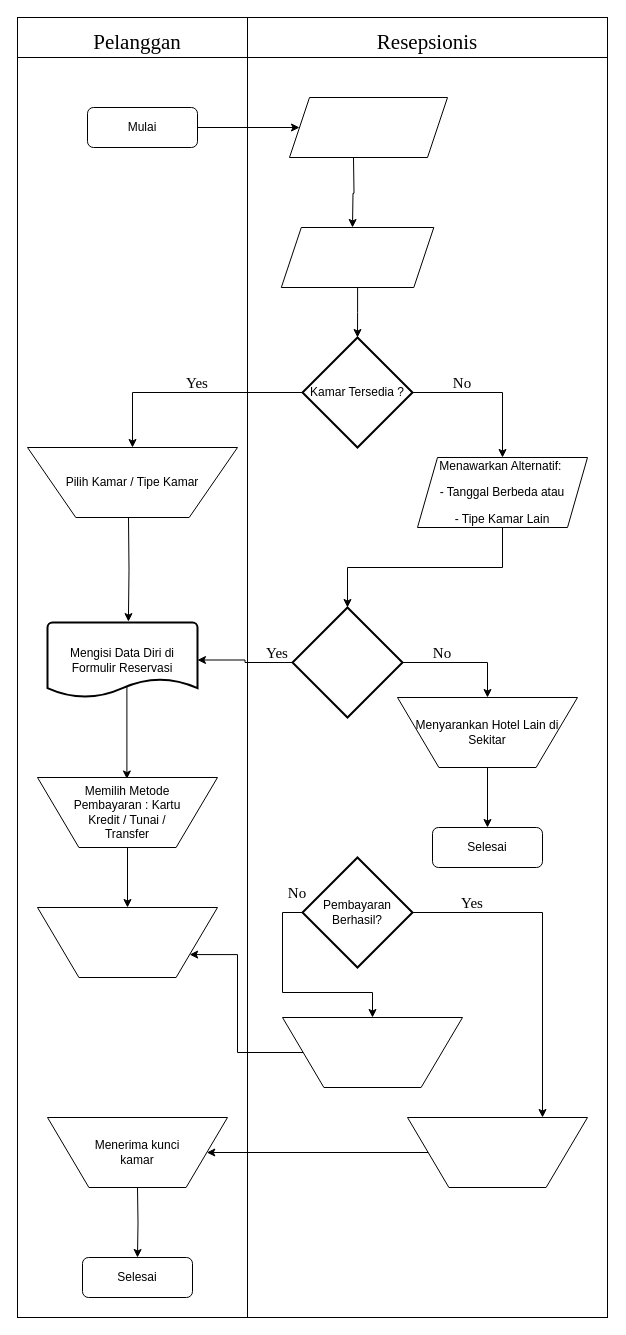
Image size: 626x1335. Some labels were removed from this diagram. The box of each missing label's shape, as (x1, y1, x2, y2) in pixels:
melakukan Proses Pembayaran: (36, 906, 218, 978)
Meminta Customer Ulangi Pembayaran: (282, 1016, 462, 1088)
Mengkonfirmasi Reservasi Dan memberikan Kunci Kamar: (406, 1116, 588, 1188)
Periksa ketersediaan kamar: (280, 226, 434, 288)
Permintaan Pemesanan Kamar: (288, 96, 448, 158)
Setuju dengan Alternatif?: (291, 606, 403, 718)
